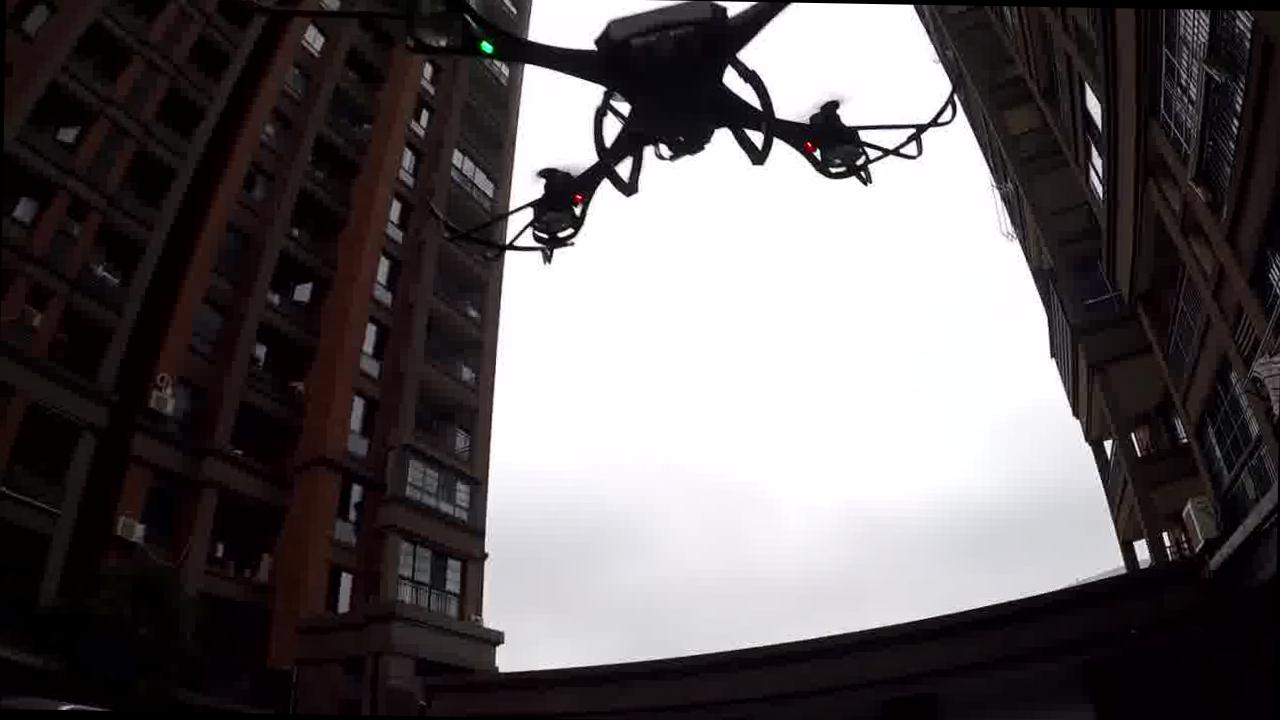drone: (272, 0, 978, 309)
